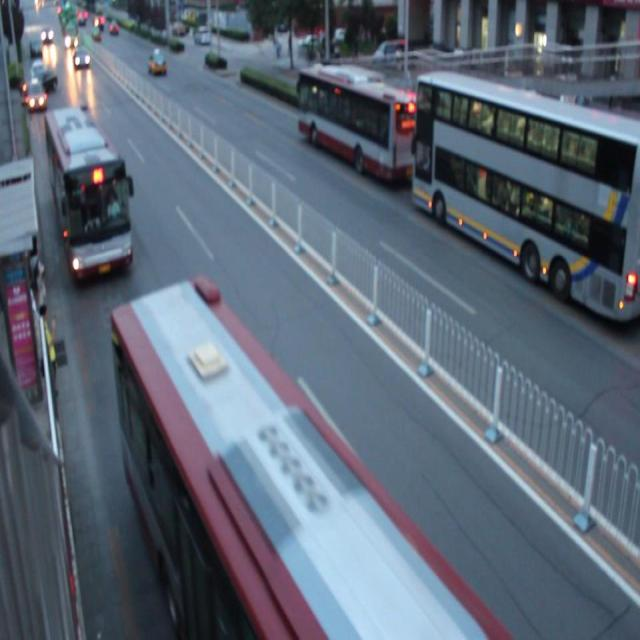car: (26, 78, 47, 110)
van: (111, 294, 505, 640), (413, 71, 640, 324), (44, 108, 132, 278), (298, 66, 422, 185)
